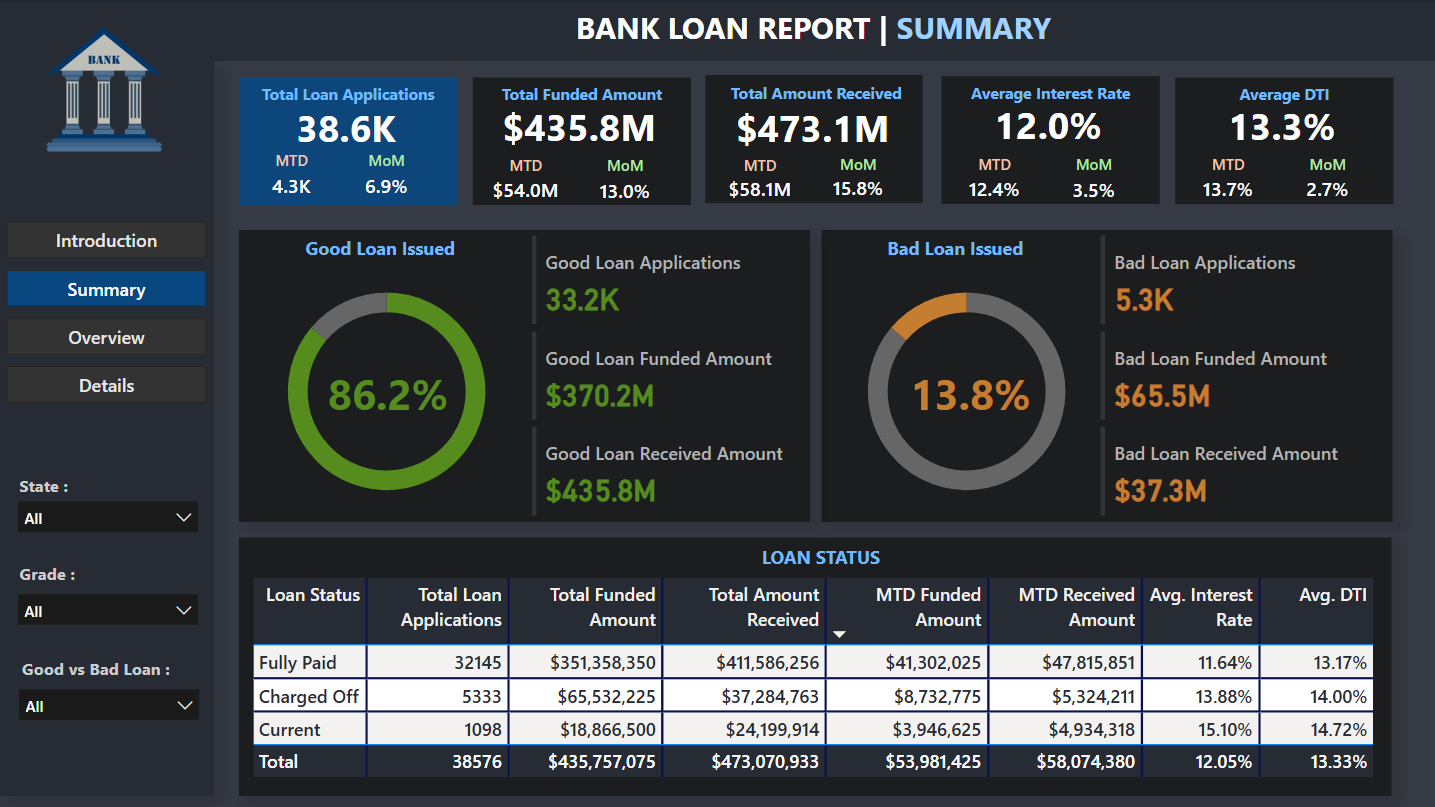

The dashboard page shown, as its layout file describes it:
{"tool":"powerbi","page":{"name":"Summary","canvas":[1280,720],"ordinal":1},"visuals":[{"type":"shape","box":[629.2,66.4,193.8,114.2],"z":0,"group":"g3"},{"type":"shape","box":[839.7,67.5,194.5,114],"z":0,"group":"g4"},{"type":"shape","box":[214.3,68.6,194.3,114.3],"z":0,"group":"g1"},{"type":"shape","box":[421.4,68.6,194.5,114],"z":0,"group":"g2"},{"type":"shape","box":[1047.1,68.6,194.5,113.1],"z":0,"group":"g5"},{"type":"shape","box":[214.3,204.3,508.6,260],"z":0},{"type":"card","fields":{"Values":["table_measures.avg_interest_rate"]},"box":[851.5,82.1,165.9,58.4],"z":1000,"group":"g4"},{"type":"card","fields":{"Values":["table_measures.avg_DTI"]},"box":[1058.9,83.1,165.9,57.9],"z":1000,"group":"g5"},{"type":"card","fields":{"Values":["table_measures.total_loan_appl"]},"box":[247.2,83.2,124.3,61.3],"z":1000,"group":"g1"},{"type":"card","fields":{"Values":["table_measures.total_funded_amt"]},"box":[433.2,83.2,165.9,58.4],"z":1000,"group":"g2"},{"type":"card","fields":{"Values":["table_measures.total_received_amt"]},"box":[643.2,85.3,163.1,55.8],"z":1000,"group":"g3"},{"type":"donutChart","fields":{"Category":["financial_loan.Good vs Band Loan"],"Y":["table_measures.total_loan_appl"]},"box":[220,234.3,250,230],"z":1000},{"type":"shape","box":[0,0,1280.2,54.7],"z":2000},{"type":"textbox","box":[632.2,67,191,41.6],"z":2000,"group":"g3"},{"type":"textbox","box":[839.7,67.5,194.5,38.9],"z":2000,"group":"g4"},{"type":"textbox","box":[214.3,68.6,194.3,39],"z":2000,"group":"g1"},{"type":"textbox","box":[421.4,68.6,194.5,38.9],"z":2000,"group":"g2"},{"type":"textbox","box":[1047.1,68.6,194.5,38.6],"z":2000,"group":"g5"},{"type":"shape","box":[0,54.7,191.9,654.7],"z":3000},{"type":"card","title":"MTD","fields":{"Values":["table_measures.MTD_loan_appl"]},"box":[235.7,132.7,51.4,50.2],"z":3000,"group":"g1"},{"type":"card","title":"MTD","fields":{"Values":["table_measures.MTD_interest_rate"]},"box":[851.5,136.3,70.1,48.6],"z":3000,"group":"g4"},{"type":"card","title":"MTD","fields":{"Values":["table_measures.MTD_avg_DTI"]},"box":[1058.9,136.9,70.1,48.3],"z":3000,"group":"g5"},{"type":"card","title":"MTD","fields":{"Values":["table_measures.MTD_received_amt"]},"box":[643.2,137.1,68.9,46.5],"z":3000,"group":"g3"},{"type":"card","title":"MTD","fields":{"Values":["table_measures.MTD_funded_amt"]},"box":[433.2,137.4,70.1,48.6],"z":3000,"group":"g2"},{"type":"card","title":"MoM","fields":{"Values":["table_measures.MOM_loan_appl"]},"box":[320,132.7,51.4,50.2],"z":4000,"group":"g1"},{"type":"card","title":"MoM","fields":{"Values":["table_measures.MOM_interest_rate"]},"box":[946.6,136.1,57.8,49.7],"z":4000,"group":"g4"},{"type":"card","title":"MoM","fields":{"Values":["table_measures.MOM_avg_DTI"]},"box":[1154,136.7,57.8,49.3],"z":4000,"group":"g5"},{"type":"card","title":"MoM","fields":{"Values":["table_measures.MOM_received_amt"]},"box":[736.7,136.9,56.8,47.5],"z":4000,"group":"g3"},{"type":"card","title":"MoM","fields":{"Values":["table_measures.MOM_funded_amt"]},"box":[528.3,137.2,57.8,49.7],"z":4000,"group":"g2"},{"type":"textbox","box":[13.8,417,119.7,38.5],"z":4000},{"type":"textbox","box":[235.7,204.3,207.1,34.3],"z":5000},{"type":"card","fields":{"Values":["table_measures.good_loan_per"]},"box":[287.1,321.4,118.6,57.1],"z":6000},{"type":"textbox","box":[509.2,1.4,447.3,49.5],"z":7000},{"type":"group","id":"g1","title":"Group 1","box":[214.3,68.6,194.3,114.3],"z":8000},{"type":"group","id":"g2","title":"Group 1","box":[421.4,68.6,194.3,118],"z":9000},{"type":"group","id":"g3","title":"Group 1","box":[629.2,66.4,194,118],"z":10000},{"type":"group","id":"g4","title":"Group 1","box":[839.7,67.5,194.5,118.2],"z":11000},{"type":"group","id":"g5","title":"Group 1","box":[1047.1,68.6,194.3,117.1],"z":12000},{"type":"shape","box":[732.9,204.3,508.6,260],"z":13000},{"type":"cardVisual","fields":{"Data":["table_measures.good_loan_appl","table_measures.good_loan_funded_amt","table_measures.good_loan_received_amt"]},"box":[470,204.3,252.9,260],"z":14000},{"type":"donutChart","fields":{"Category":["financial_loan.Good vs Band Loan"],"Y":["table_measures.total_loan_appl"]},"box":[737.1,234.3,250,230],"z":15000},{"type":"card","fields":{"Values":["table_measures.bad_loan_per"]},"box":[805.7,321.4,118.6,57.1],"z":16000},{"type":"textbox","box":[748.6,204.3,207.1,34.3],"z":17000},{"type":"cardVisual","fields":{"Data":["table_measures.bad_loan_appl","table_measures.bad_loan_funded_amt","table_measures.bad_loan_received_amt"]},"box":[975.7,204.3,252.9,260],"z":18000},{"type":"shape","box":[214,479.1,1026.7,230.2],"z":19000},{"type":"tableEx","fields":{"Values":["financial_loan.loan_status","table_measures.total_loan_appl","table_measures.total_funded_amt","table_measures.total_received_amt","table_measures.MTD_funded_amt","table_measures.MTD_received_amt","table_measures.avg_interest_rate","table_measures.avg_DTI"]},"box":[220.4,509.8,1008.5,200.4],"z":20000},{"type":"textbox","box":[646.8,479.8,170.3,34.5],"z":21000},{"type":"slicer","fields":{"Values":["financial_loan.address_state"]},"box":[6.9,436.3,180.3,50.9],"z":22000},{"type":"slicer","fields":{"Values":["financial_loan.grade"]},"box":[6.9,518.9,180.3,50.9],"z":23000},{"type":"textbox","box":[13.8,495.5,119.7,38.5],"z":24000},{"type":"pageNavigator","box":[6.9,196.8,178.9,163.8],"z":25000},{"type":"image","box":[0,1.4,187.2,156.9],"z":26000},{"type":"slicer","fields":{"Values":["financial_loan.Good vs Band Loan"]},"box":[8.3,602.8,180.3,50.9],"z":27000},{"type":"textbox","box":[15.1,579.4,163.8,38.5],"z":28000}]}

Visuals, with their boxes in screenshot pixels (x1, y1, x2, y2), scaled from the page's 1280x720 canvas onto the 1435x807 screenshot:
shape: <box>705,74,923,202</box>
shape: <box>941,76,1159,203</box>
shape: <box>240,77,458,205</box>
shape: <box>472,77,690,205</box>
shape: <box>1174,77,1392,204</box>
shape: <box>240,229,810,520</box>
card - table_measures.avg_interest_rate: <box>955,92,1141,157</box>
card - table_measures.avg_DTI: <box>1187,93,1373,158</box>
card - table_measures.total_loan_appl: <box>277,93,416,162</box>
card - table_measures.total_funded_amt: <box>486,93,672,159</box>
card - table_measures.total_received_amt: <box>721,96,904,158</box>
donutChart - financial_loan.Good vs Band Loan x table_measures.total_loan_appl: <box>247,263,527,520</box>
shape: <box>0,0,1434,61</box>
textbox: <box>709,75,923,122</box>
textbox: <box>941,76,1159,119</box>
textbox: <box>240,77,458,121</box>
textbox: <box>472,77,690,120</box>
textbox: <box>1174,77,1392,120</box>
shape: <box>0,61,215,795</box>
"MTD" card: <box>264,149,322,205</box>
"MTD" card: <box>955,153,1033,207</box>
"MTD" card: <box>1187,153,1266,208</box>
"MTD" card: <box>721,154,798,206</box>
"MTD" card: <box>486,154,564,208</box>
"MoM" card: <box>359,149,416,205</box>
"MoM" card: <box>1061,153,1126,208</box>
"MoM" card: <box>1294,153,1359,208</box>
"MoM" card: <box>826,153,890,207</box>
"MoM" card: <box>592,154,657,209</box>
textbox: <box>15,467,150,511</box>
textbox: <box>264,229,496,267</box>
card - table_measures.good_loan_per: <box>322,360,455,424</box>
textbox: <box>571,2,1072,57</box>
"Group 1" group: <box>240,77,458,205</box>
"Group 1" group: <box>472,77,690,209</box>
"Group 1" group: <box>705,74,923,207</box>
"Group 1" group: <box>941,76,1159,208</box>
"Group 1" group: <box>1174,77,1392,208</box>
shape: <box>822,229,1392,520</box>
cardVisual - table_measures.good_loan_appl x table_measures.good_loan_funded_amt: <box>527,229,810,520</box>
donutChart - financial_loan.Good vs Band Loan x table_measures.total_loan_appl: <box>826,263,1107,520</box>
card - table_measures.bad_loan_per: <box>903,360,1036,424</box>
textbox: <box>839,229,1071,267</box>
cardVisual - table_measures.bad_loan_appl x table_measures.bad_loan_funded_amt: <box>1094,229,1377,520</box>
shape: <box>240,537,1391,795</box>
tableEx - financial_loan.loan_status x table_measures.total_loan_appl: <box>247,571,1378,796</box>
textbox: <box>725,538,916,576</box>
slicer - financial_loan.address_state: <box>8,489,210,546</box>
slicer - financial_loan.grade: <box>8,582,210,639</box>
textbox: <box>15,555,150,599</box>
pageNavigator: <box>8,221,208,404</box>
image: <box>0,2,210,177</box>
slicer - financial_loan.Good vs Band Loan: <box>9,676,211,733</box>
textbox: <box>17,649,201,693</box>
